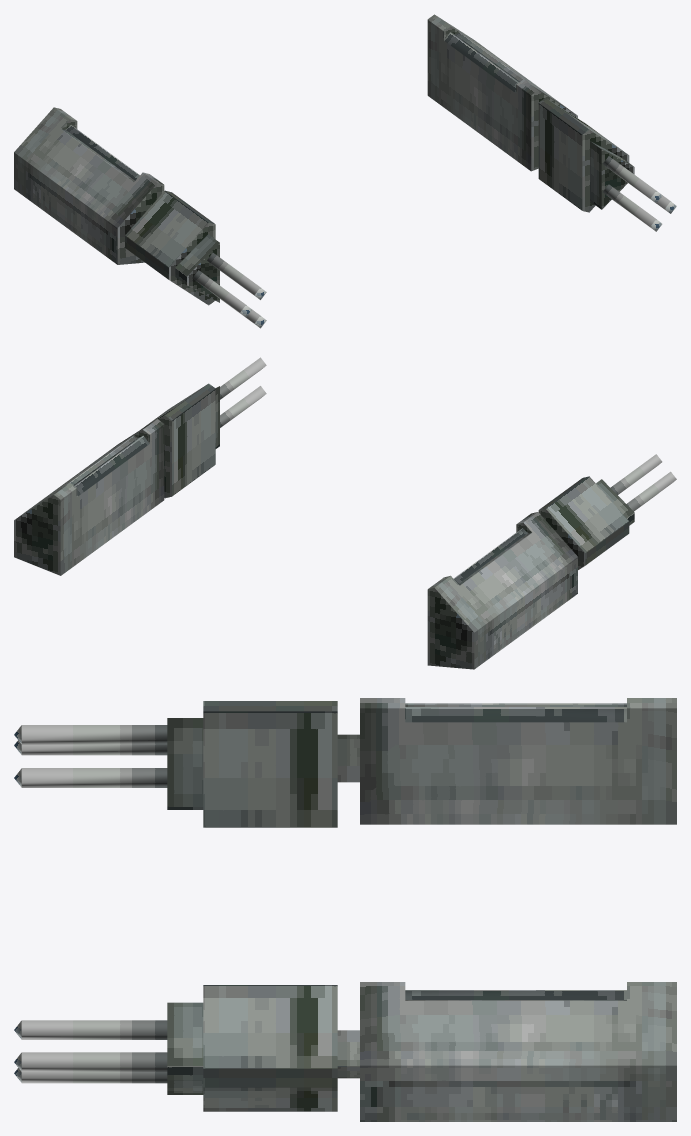
Rendered from kse_firespray_weapon1_s04_l1.fbx.
3 renders of one model, top to bottom at view 1: azimuth 30°, elevation 25°; view 2: azimuth 150°, elevation 25°; view 3: azimuth 270°, elevation 25°, orthographic. The views are drawn at different scales.
Parts seen in each view (by area): view 1: mesh_node; view 2: mesh_node; view 3: mesh_node.
Boxes of the visible parts, x1,y1,x2,y2 form: mesh_node: [14, 14, 676, 328]; mesh_node: [14, 357, 676, 669]; mesh_node: [14, 698, 676, 1121].
Bounding box in the file's own units: 4.16 × 0.732 × 3.39.
1 material, 1 textured.
